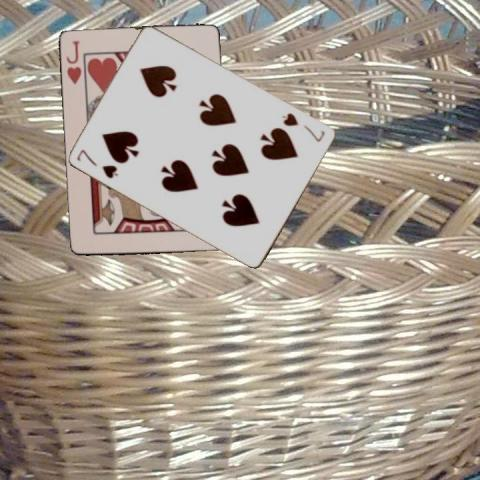7s: (279, 110, 327, 144), (74, 146, 119, 180)
Jh: (64, 38, 84, 86)
